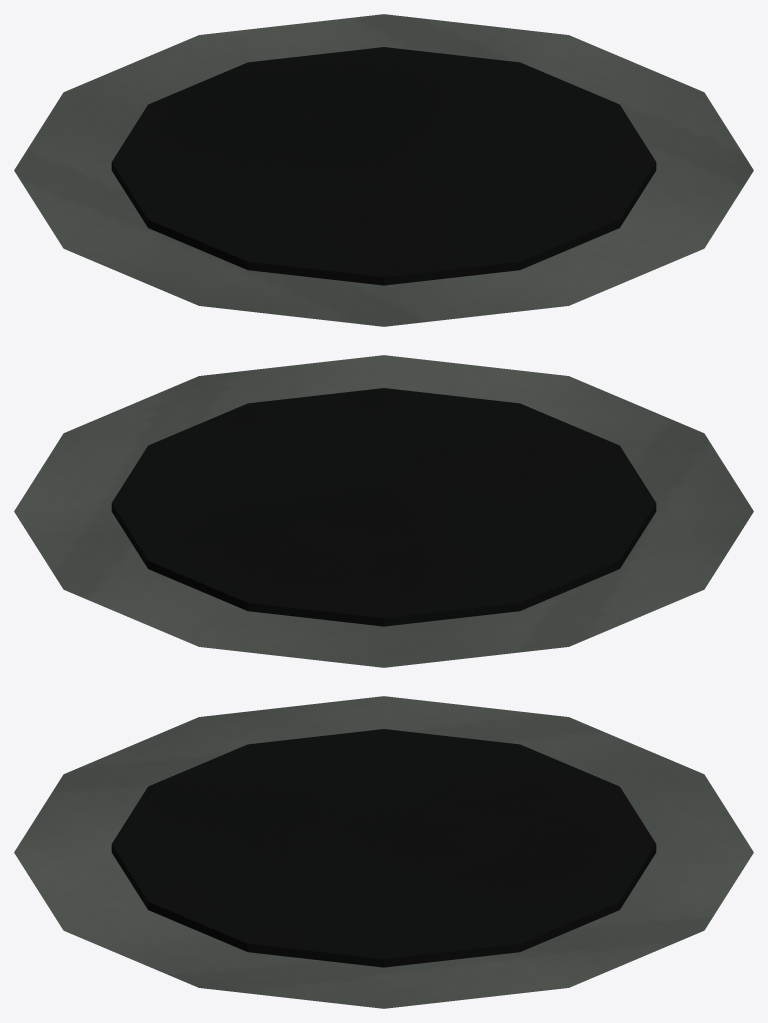
File: Plate.glb
3 views of the same model, one above another, from view 1: azimuth 30°, elevation 25°; view 2: azimuth 150°, elevation 25°; view 3: azimuth 270°, elevation 25° (orthographic).
Parts seen in each view (by area): view 1: Plate; view 2: Plate; view 3: Plate.
Boxes of the visible parts, x1=… form: Plate: x1=14, y1=14, x2=753, y2=326; Plate: x1=14, y1=355, x2=753, y2=667; Plate: x1=14, y1=696, x2=753, y2=1008.
Size of the model in its own units: 0.36 by 0.025 by 0.36.
2 materials, 2 textured.
